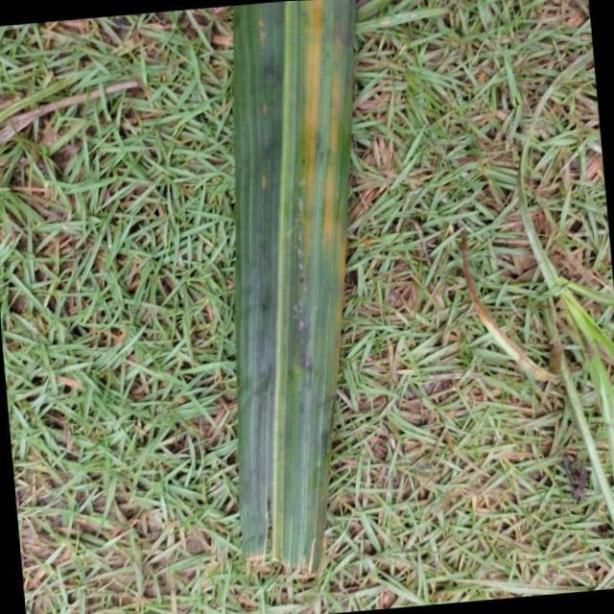Megnesium: (225, 0, 360, 586)
